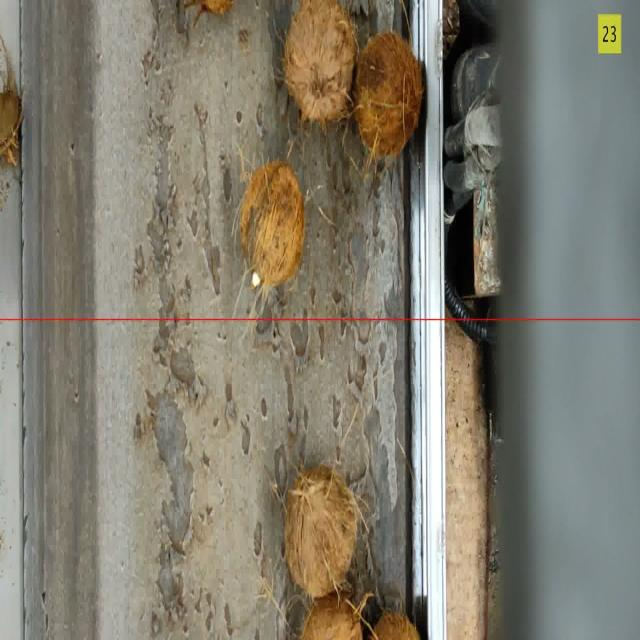Coconut-Conveyor-Belt: (284, 1, 359, 121), (288, 472, 355, 595), (244, 161, 304, 290), (359, 40, 423, 158), (302, 594, 364, 640), (355, 604, 419, 640)
